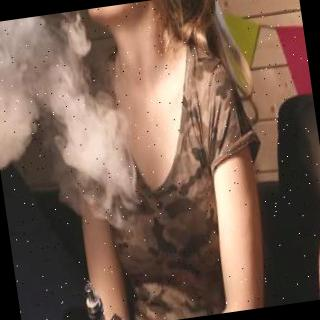smoke: (0, 7, 126, 219)
